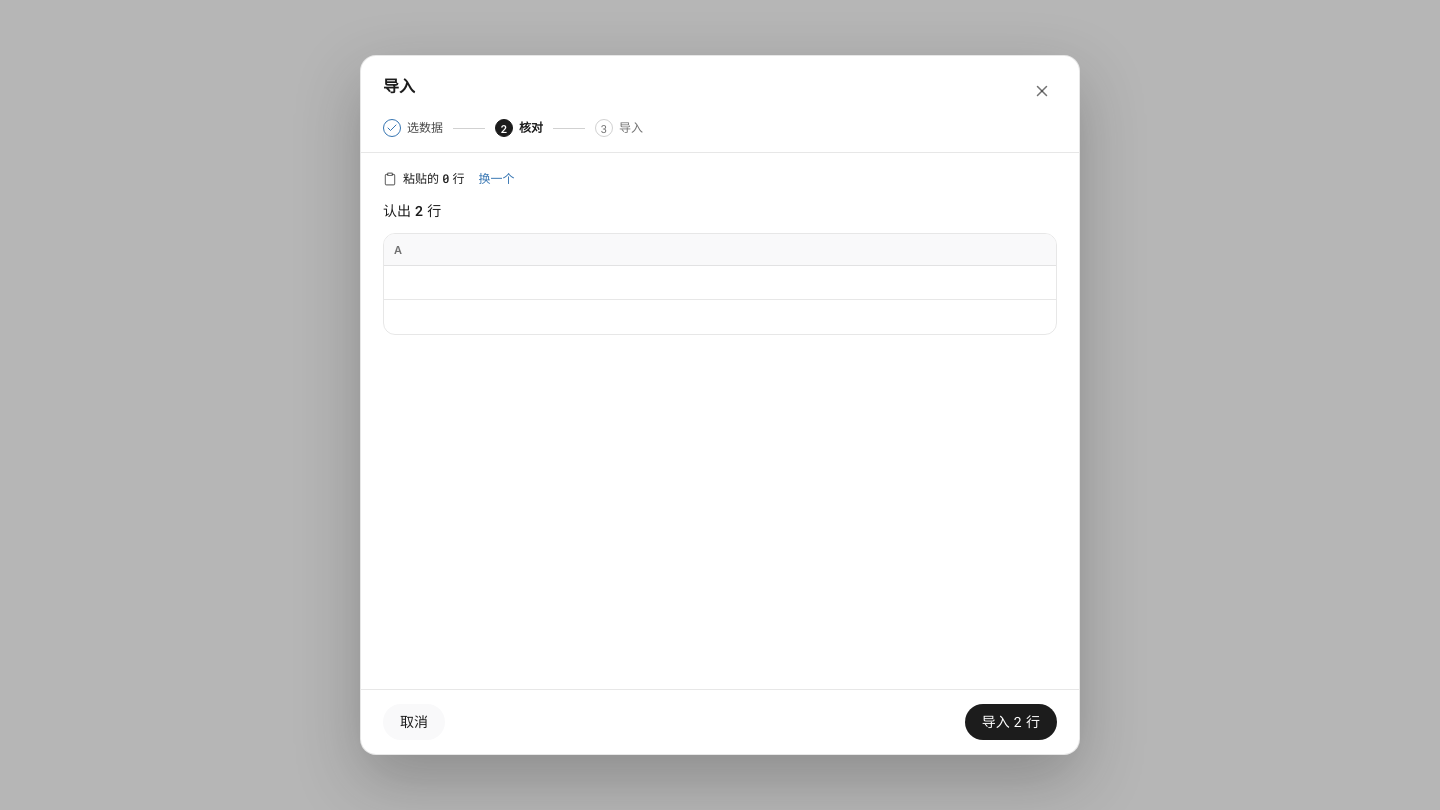
Test: 失败 · 一次导入发多次请求,后面那次失败(真 registry run) › 附表13 逐年:2024 年写进去了、2025 年被拒 —— 同样照实写
What coordinates should you click on to do the following:
click the button "导入 2 行"
I would click on:
 (1011, 722)
Its box is [965, 704, 1057, 740].
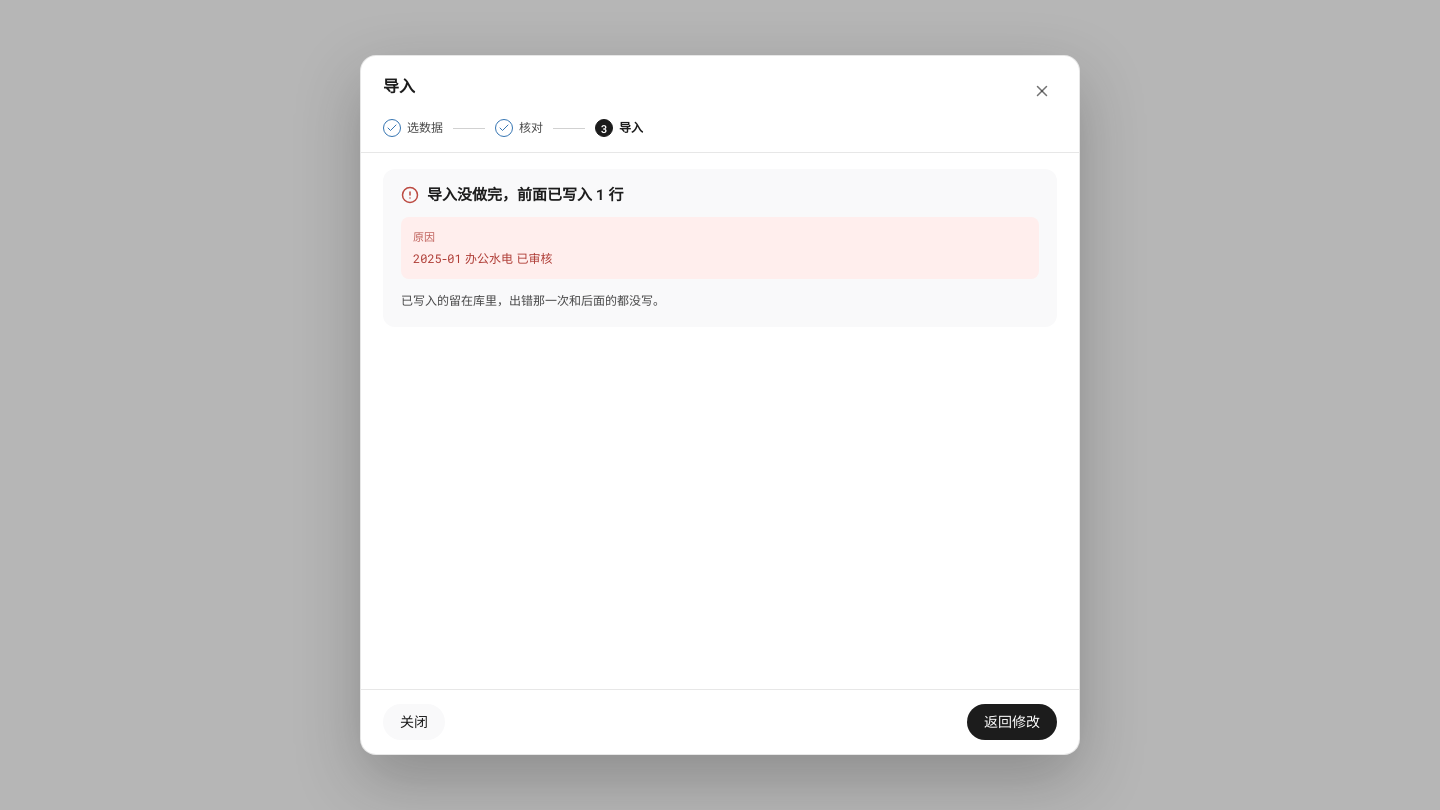
Now the heading "导入没做完，前面已写入 1 行" is shown, box [427, 185, 624, 205]
